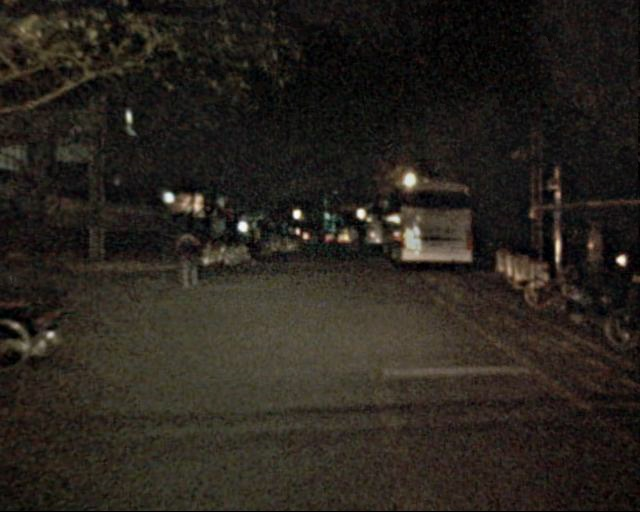person: (174, 219, 203, 289), (241, 220, 260, 267), (350, 226, 369, 255)
